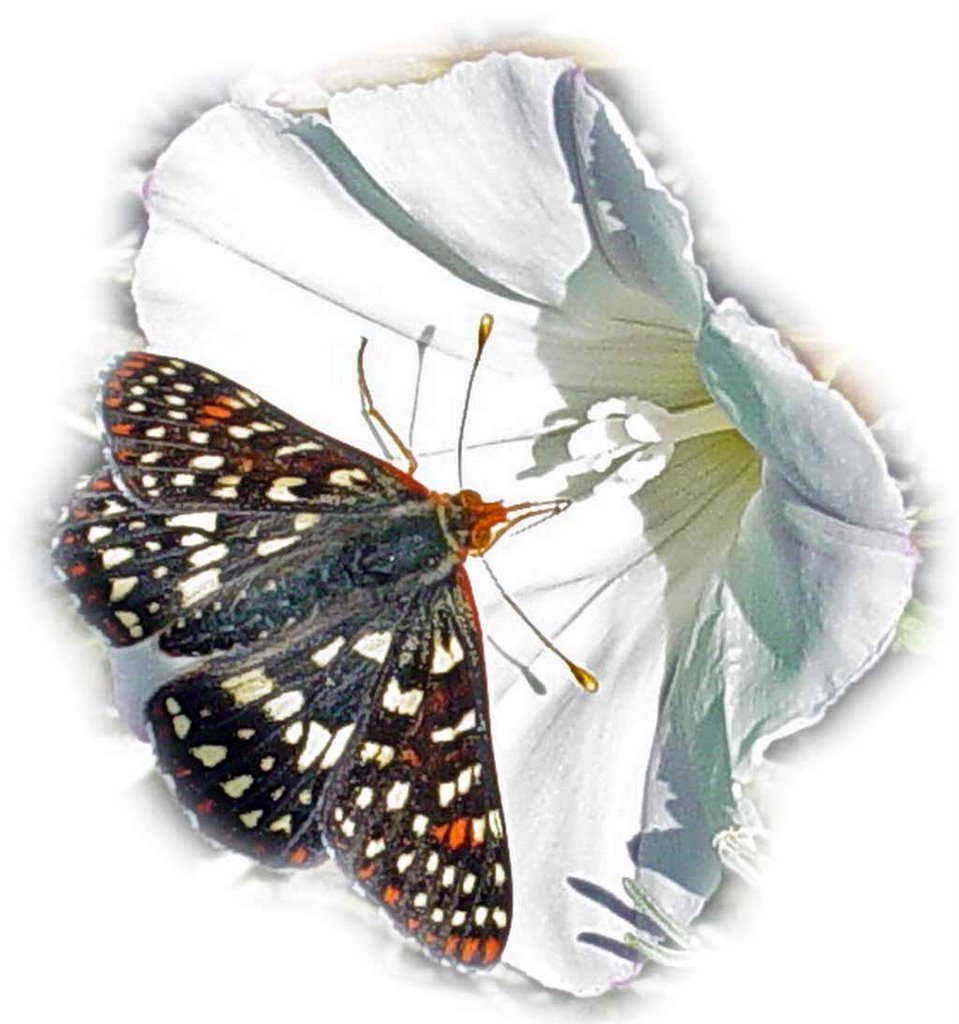Butterfly: (31, 334, 525, 980)
